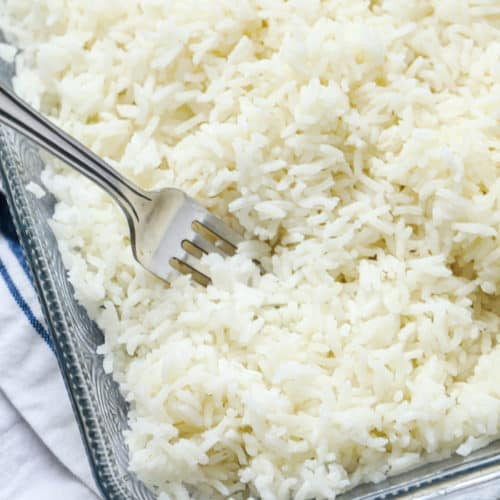rice: (106, 1, 497, 476)
